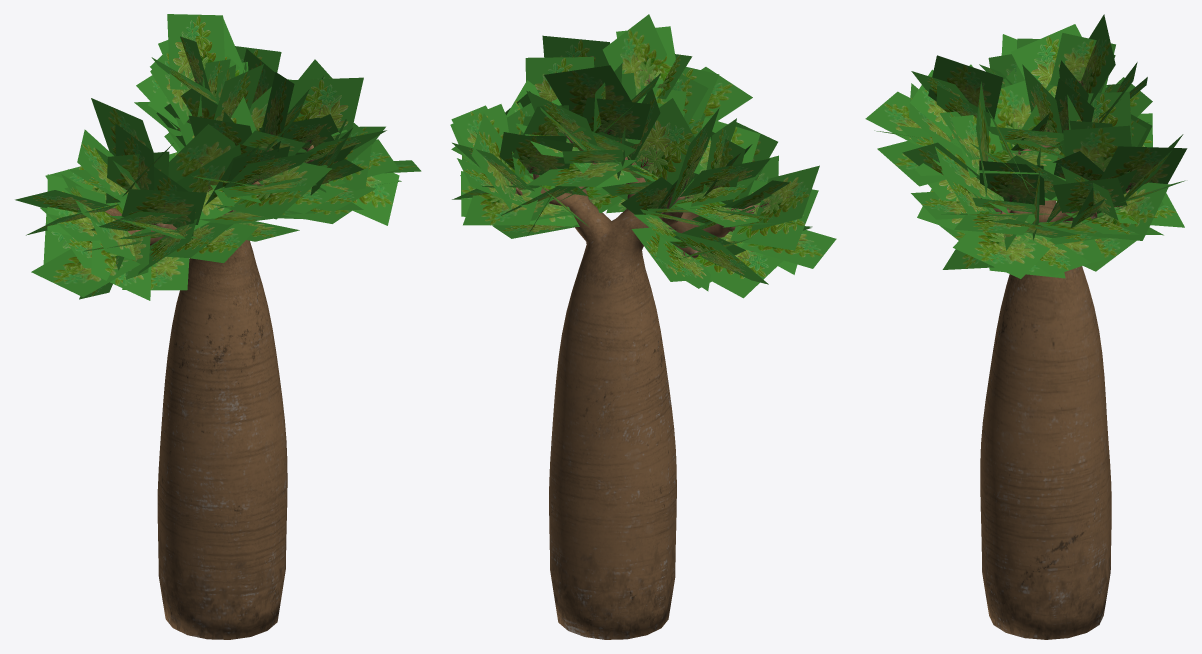
File: sb_obj_nature010_Jungles04a.fbx
3 renders of one model, left to right at view 1: azimuth 30°, elevation 25°; view 2: azimuth 150°, elevation 25°; view 3: azimuth 270°, elevation 25°, orthographic.
Parts seen in each view (by area): view 1: leaf04a, sb_obj_nature010_Jungles04a; view 2: leaf04a, sb_obj_nature010_Jungles04a; view 3: leaf04a, sb_obj_nature010_Jungles04a.
Part boxes in pixels (x1,y1,x2,y2): leaf04a: [15, 14, 421, 300]; sb_obj_nature010_Jungles04a: [105, 145, 313, 639]; leaf04a: [450, 14, 836, 298]; sb_obj_nature010_Jungles04a: [514, 135, 758, 639]; leaf04a: [865, 14, 1187, 278]; sb_obj_nature010_Jungles04a: [979, 145, 1129, 639].
Bounding box in the file's own units: 4.53 × 6.74 × 3.35.
Materials: 2 (2 with a texture image).
